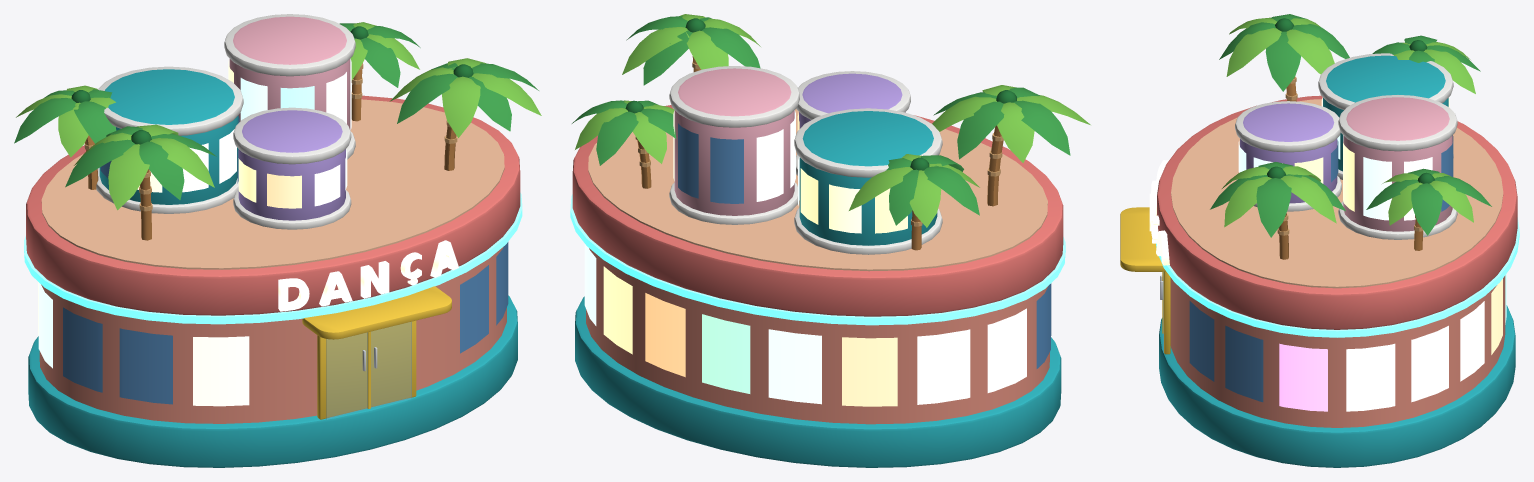
The model's file is boate_danca.glb.
3 views of the same model, side by side, from view 1: azimuth 30°, elevation 25°; view 2: azimuth 150°, elevation 25°; view 3: azimuth 270°, elevation 25° (orthographic). The views are drawn at different scales.
Parts seen in each view (by area): view 1: boate_danca; view 2: boate_danca; view 3: boate_danca.
Part boxes in pixels (x1,y1,x2,y2): boate_danca: [14, 14, 541, 467]; boate_danca: [570, 14, 1090, 467]; boate_danca: [1120, 14, 1519, 467].
Size of the model in its own units: 11.92 by 7.61 by 9.85.
Materials: 10 (1 with a texture image).
